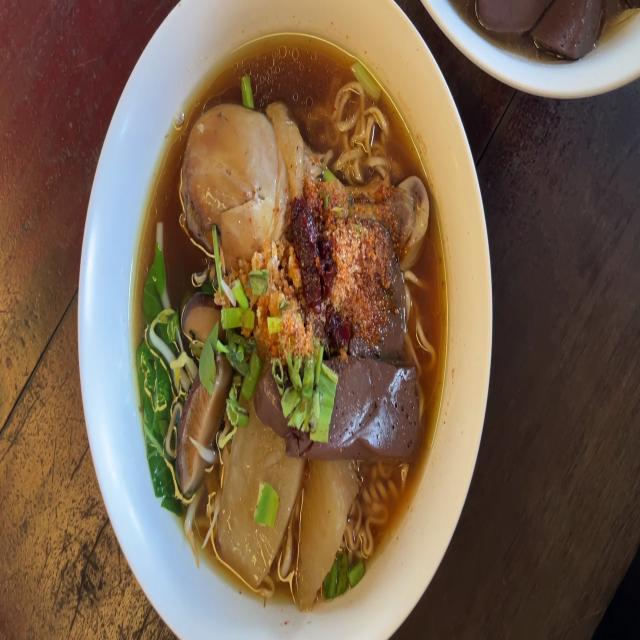noodle: (472, 0, 631, 56), (332, 360, 413, 451)
